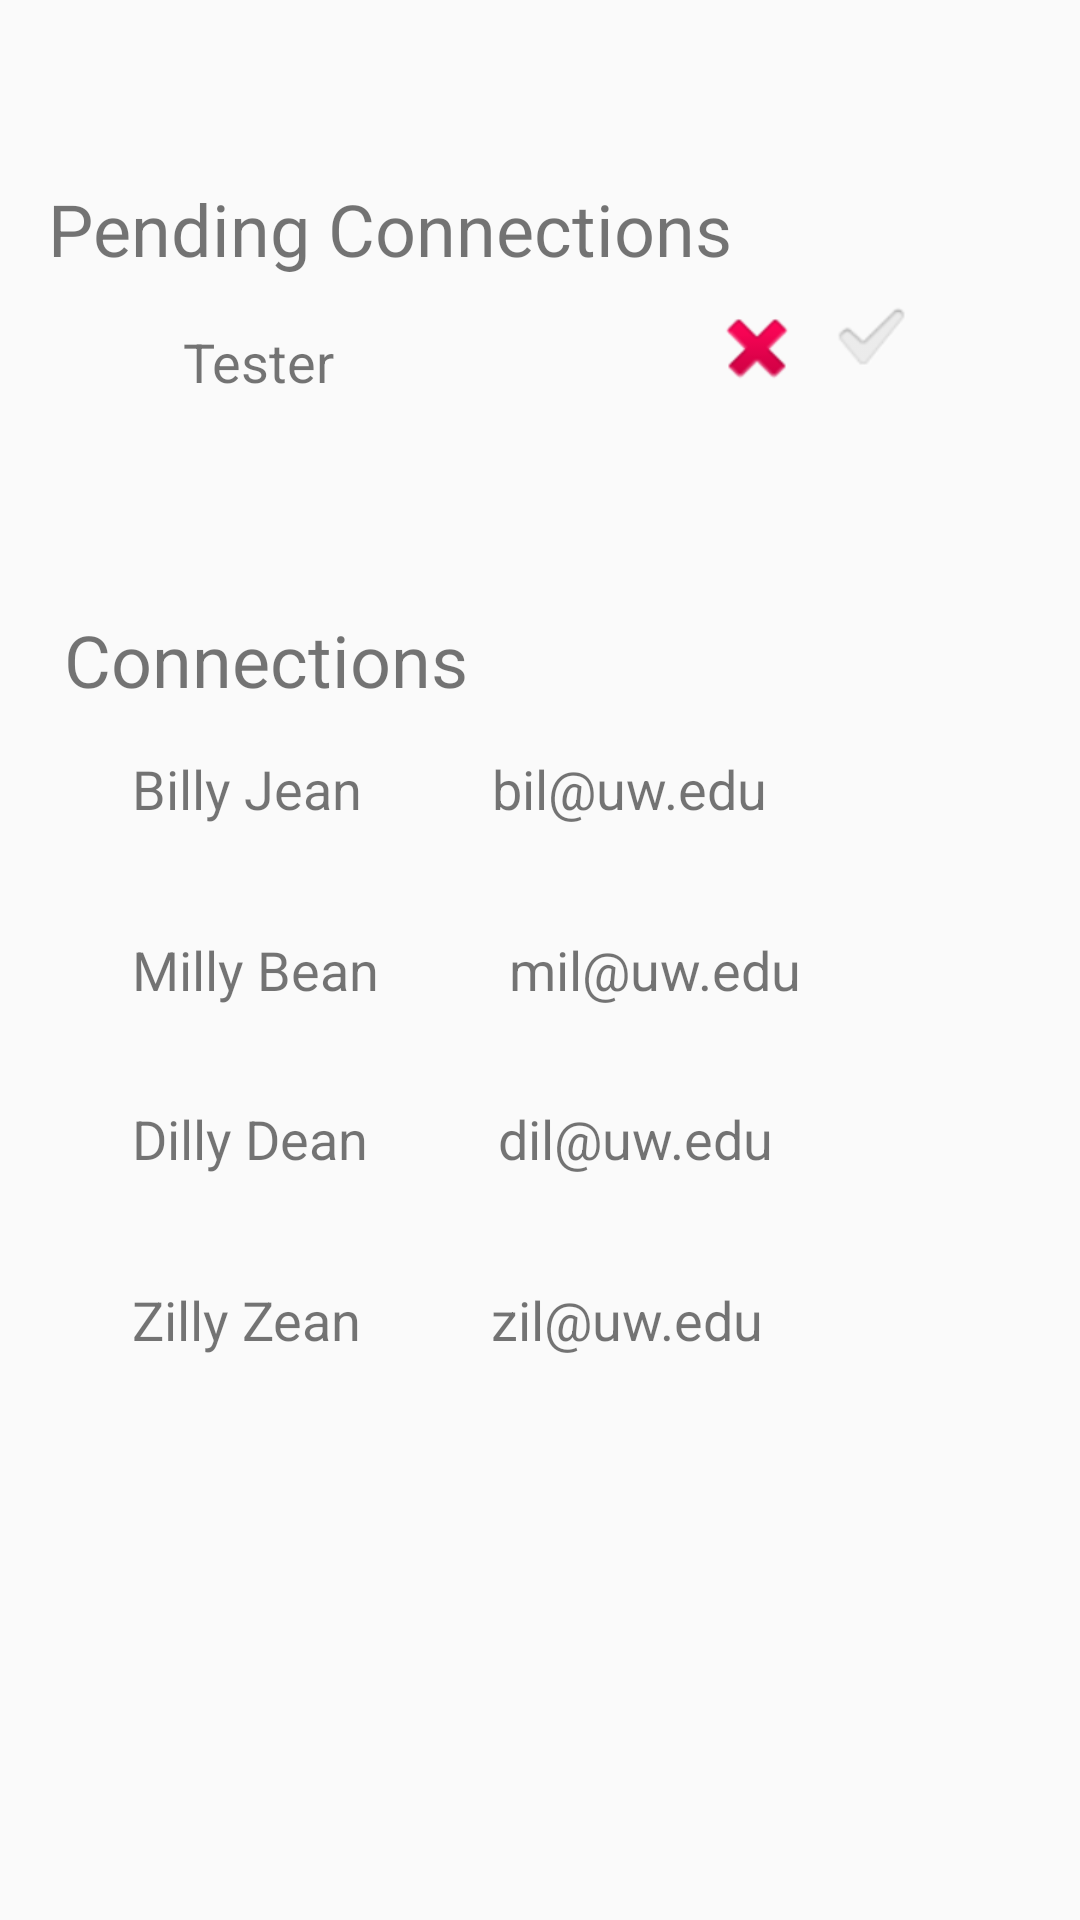

Icon click points for this 1080px×1920px phone screenshot, format point (x, y):
delete: point (757, 348)
